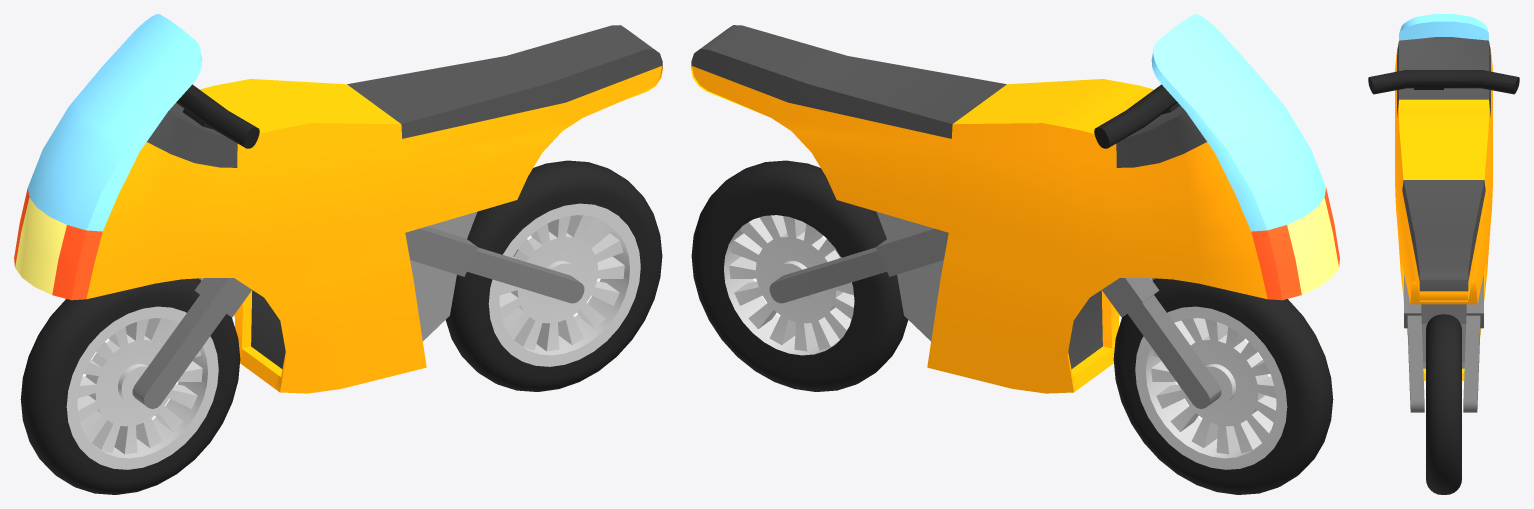
The model's file is motorcycle.gltf.
3 renders of one model, left to right at view 1: azimuth 30°, elevation 25°; view 2: azimuth 150°, elevation 25°; view 3: azimuth 270°, elevation 25°, orthographic. The views are drawn at different scales.
Parts seen in each view (by area): view 1: Cube.725; view 2: Cube.725; view 3: Cube.725.
Boxes of the visible parts, <box> form: Cube.725: <box>14,14,662,494</box>; Cube.725: <box>691,14,1339,494</box>; Cube.725: <box>1368,14,1519,494</box>.
Size of the model in its own units: 2.35 by 1.61 by 0.6551.
1 material, 1 textured.
